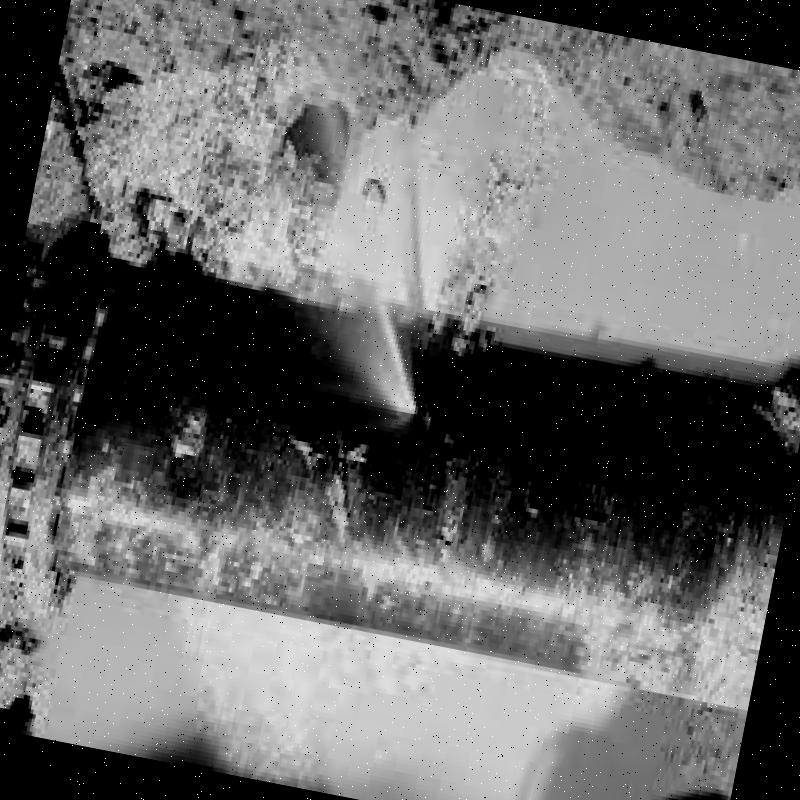Fracture: (305, 199, 587, 550)
